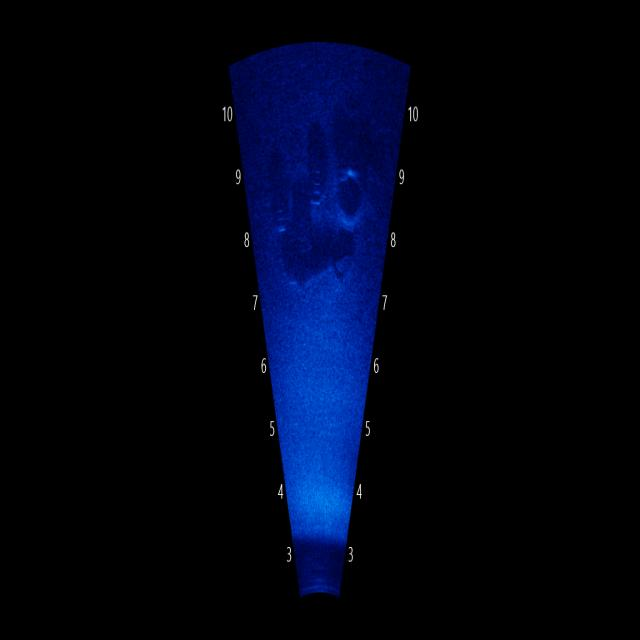circle: (329, 152, 371, 222)
